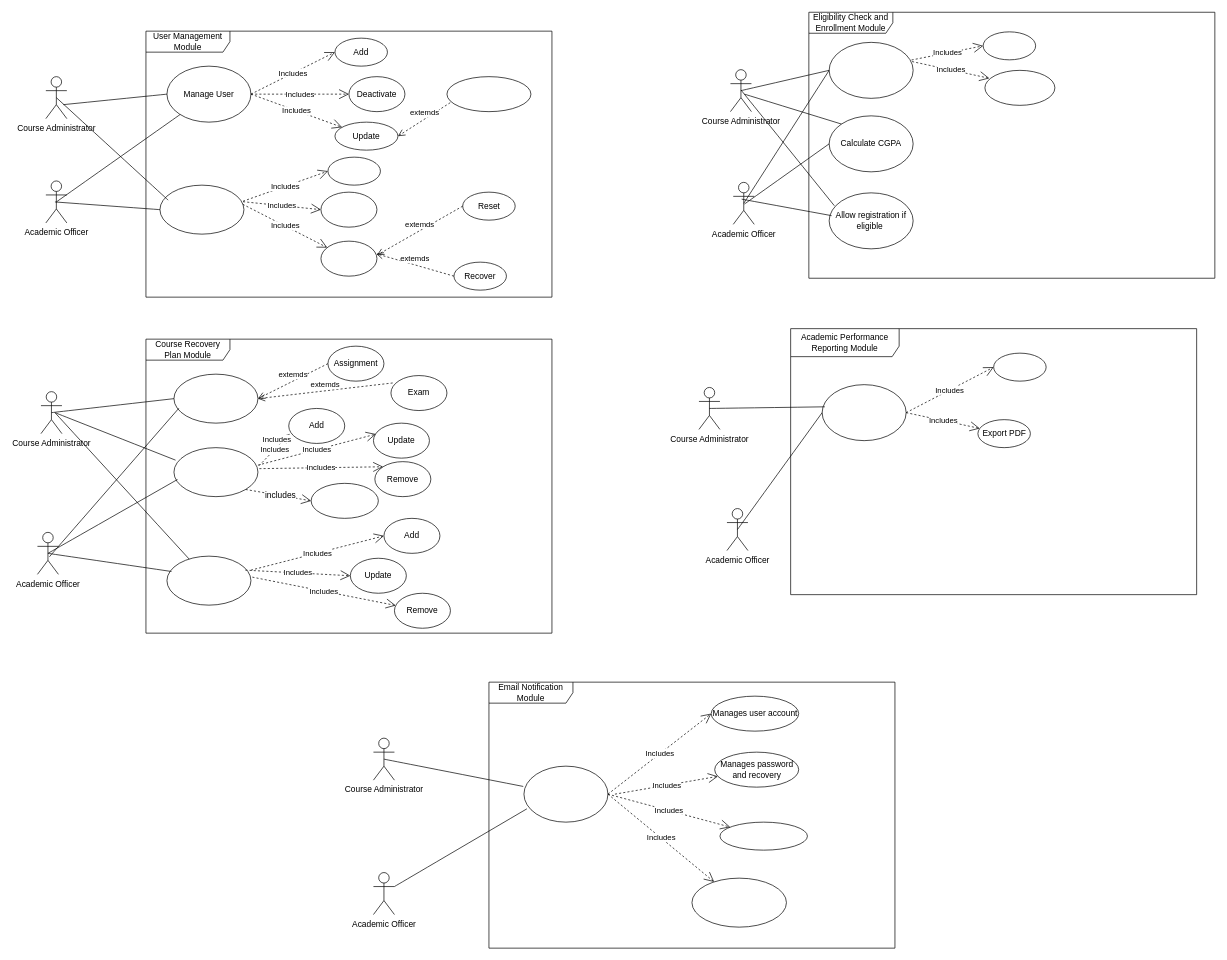
Some shapes in this 1227 by 960 pixel diagram are drawn without their labels. The centre of each missing label's shape, as x and y in pixels:
Authentication and Authorization: the point at 201,209
CGPA: the point at 1009,45
Change Credentials: the point at 488,94
Create: the point at 1019,366
Generates Academic Performance Report: the point at 863,412
List out students not eligible: the point at 870,70
Lists Students Failed Component: the point at 215,398
Login: the point at 353,170
Logout: the point at 348,209
Manages academic performance report: the point at 738,902
Manages course recovery: the point at 763,835
Manages password: the point at 348,258
Manages Recommendation for course recovery: the point at 215,472
monitors and tracks progress: the point at 344,500
not more than 3 failed course: the point at 1019,87
Sends automated messages to students: the point at 565,793
Sets milestone for course recovery with action plan: the point at 208,580
